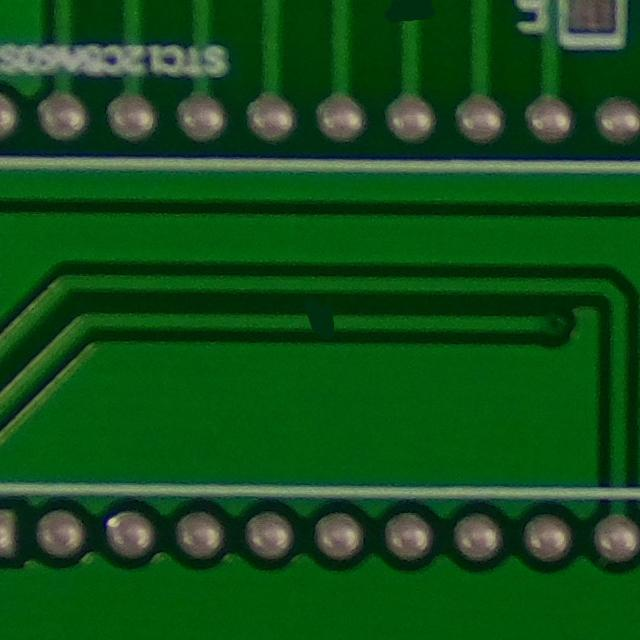open_circuit: (296, 300, 345, 341)
